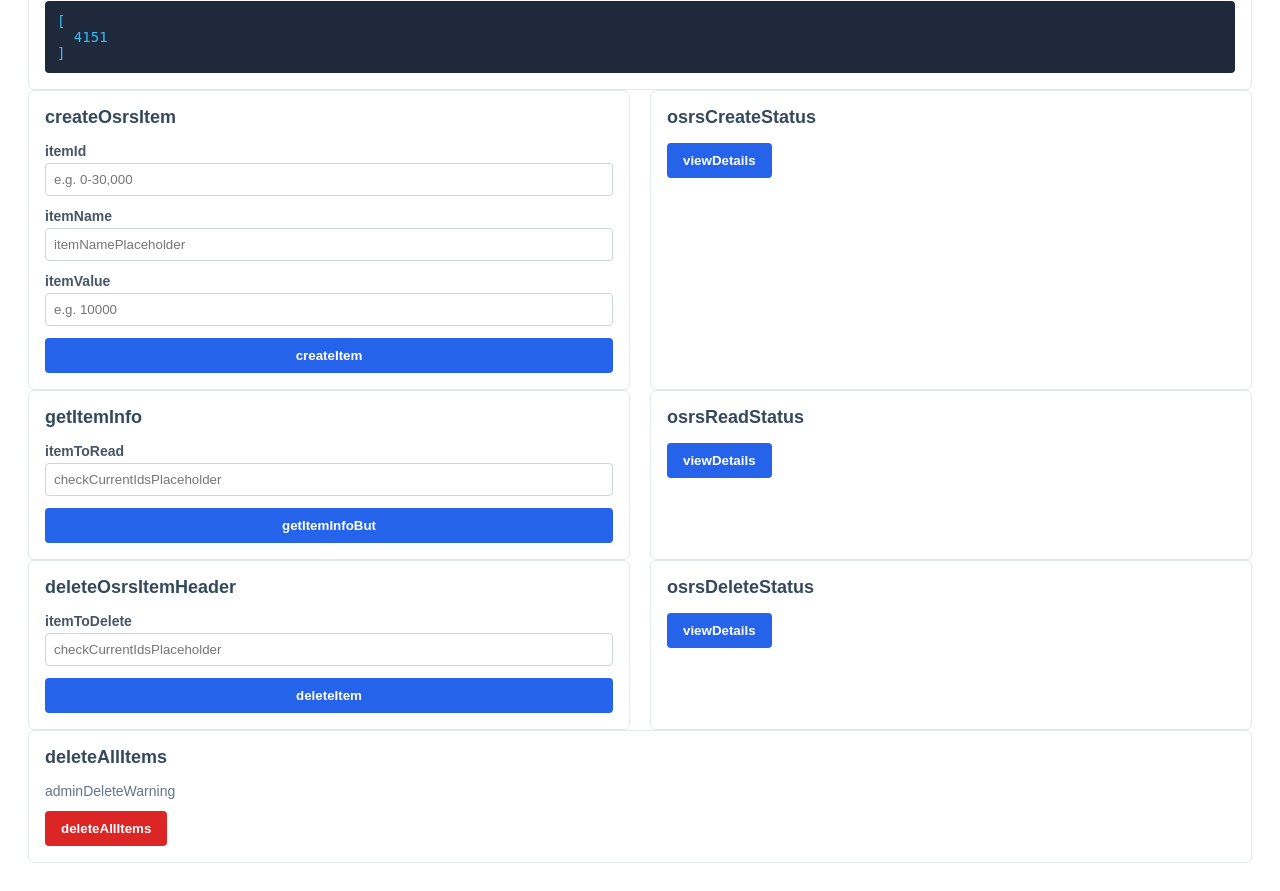
Test: OSRSPage Component Unit Tests › Simulates Item Deletion and resets input
This screenshot has width=1280, height=891.
(page scrolled)
# Simulate a user attempting to delete
Type "4151" into the number field with placeholder "checkCurrentIdsPlaceholder" below "itemToDelete".
click(329, 650); type("4151")  # box [45,633,613,666]
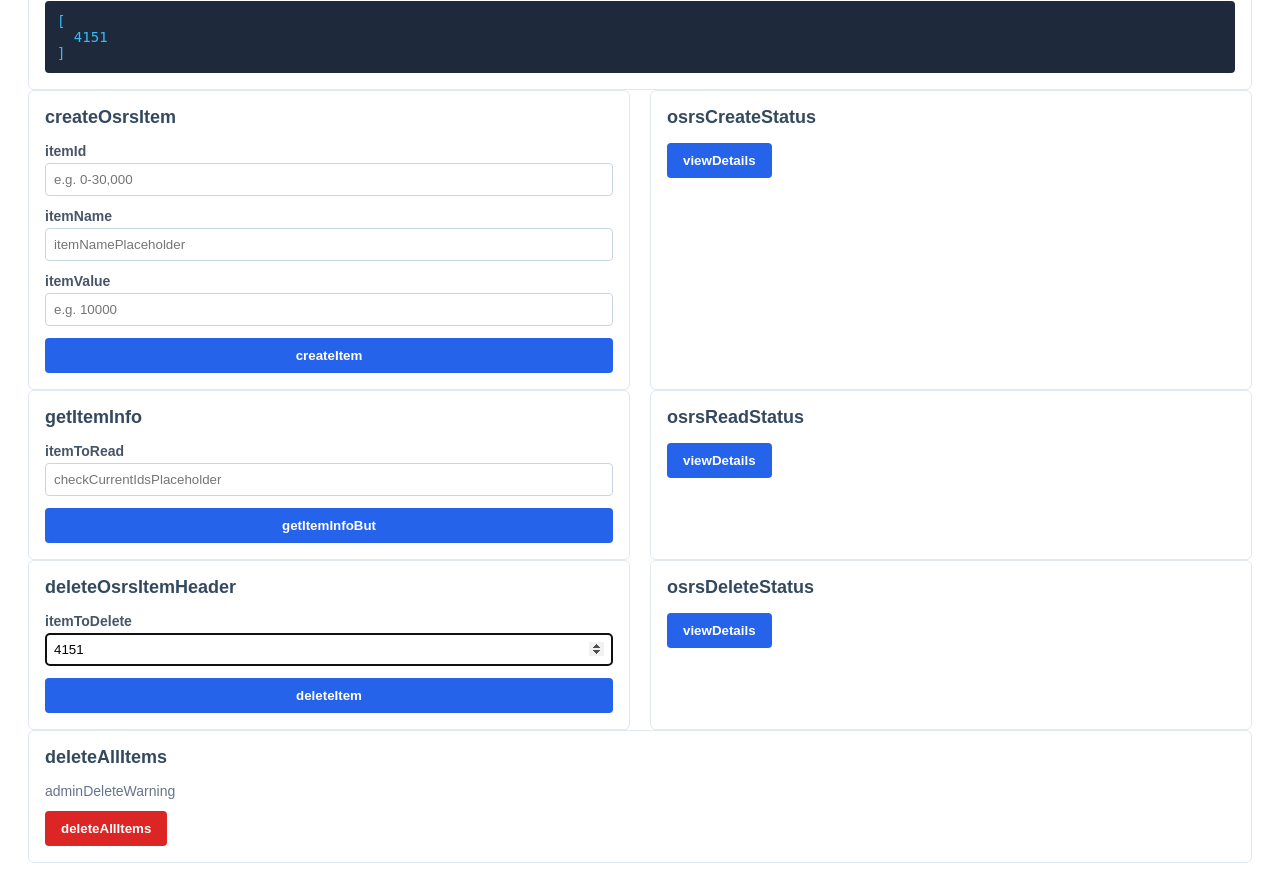
Click the button "deleteItem".
click(329, 696)  # box [45,678,613,713]
(page scrolled)
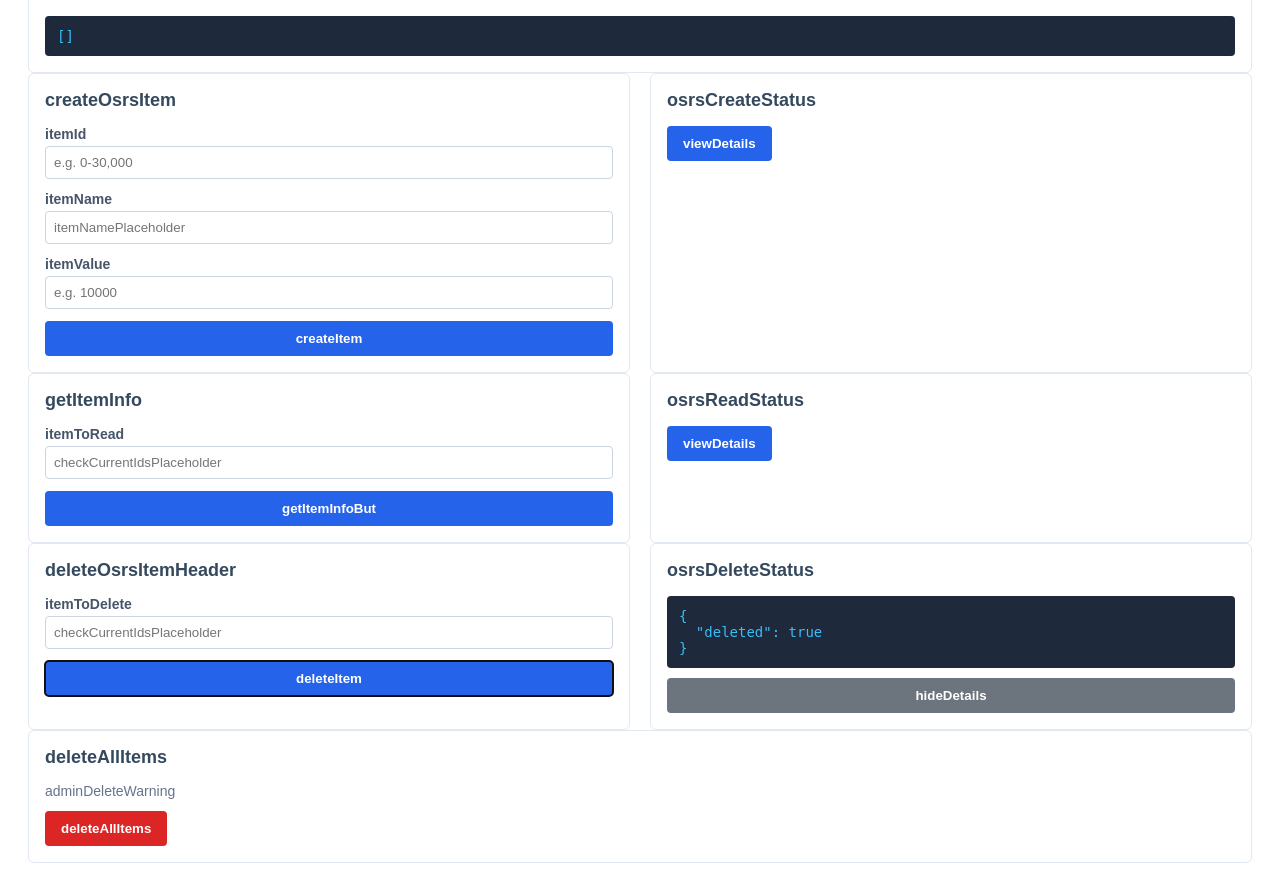
Expected: the text "{ \"deleted\": true }" is shown, [667,596,1235,668]
Expected: the number field with placeholder "checkCurrentIdsPlaceholder" below "itemToDelete" is not empty, [45,616,613,649]
